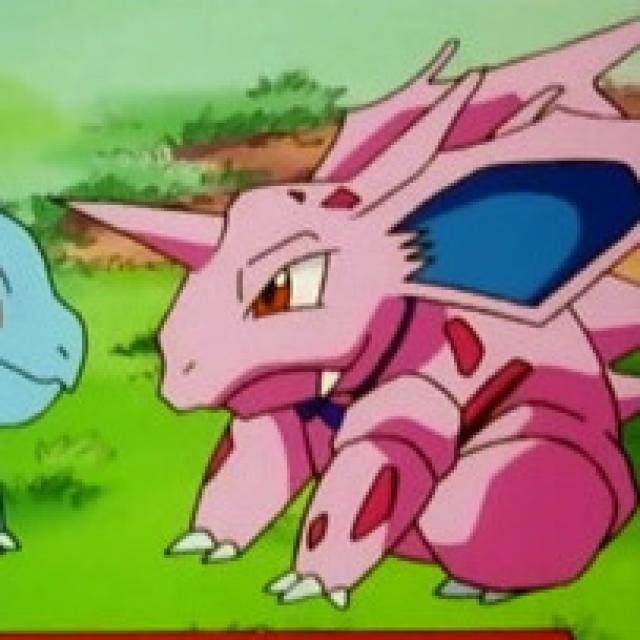Nidorino: (138, 139, 605, 577)
